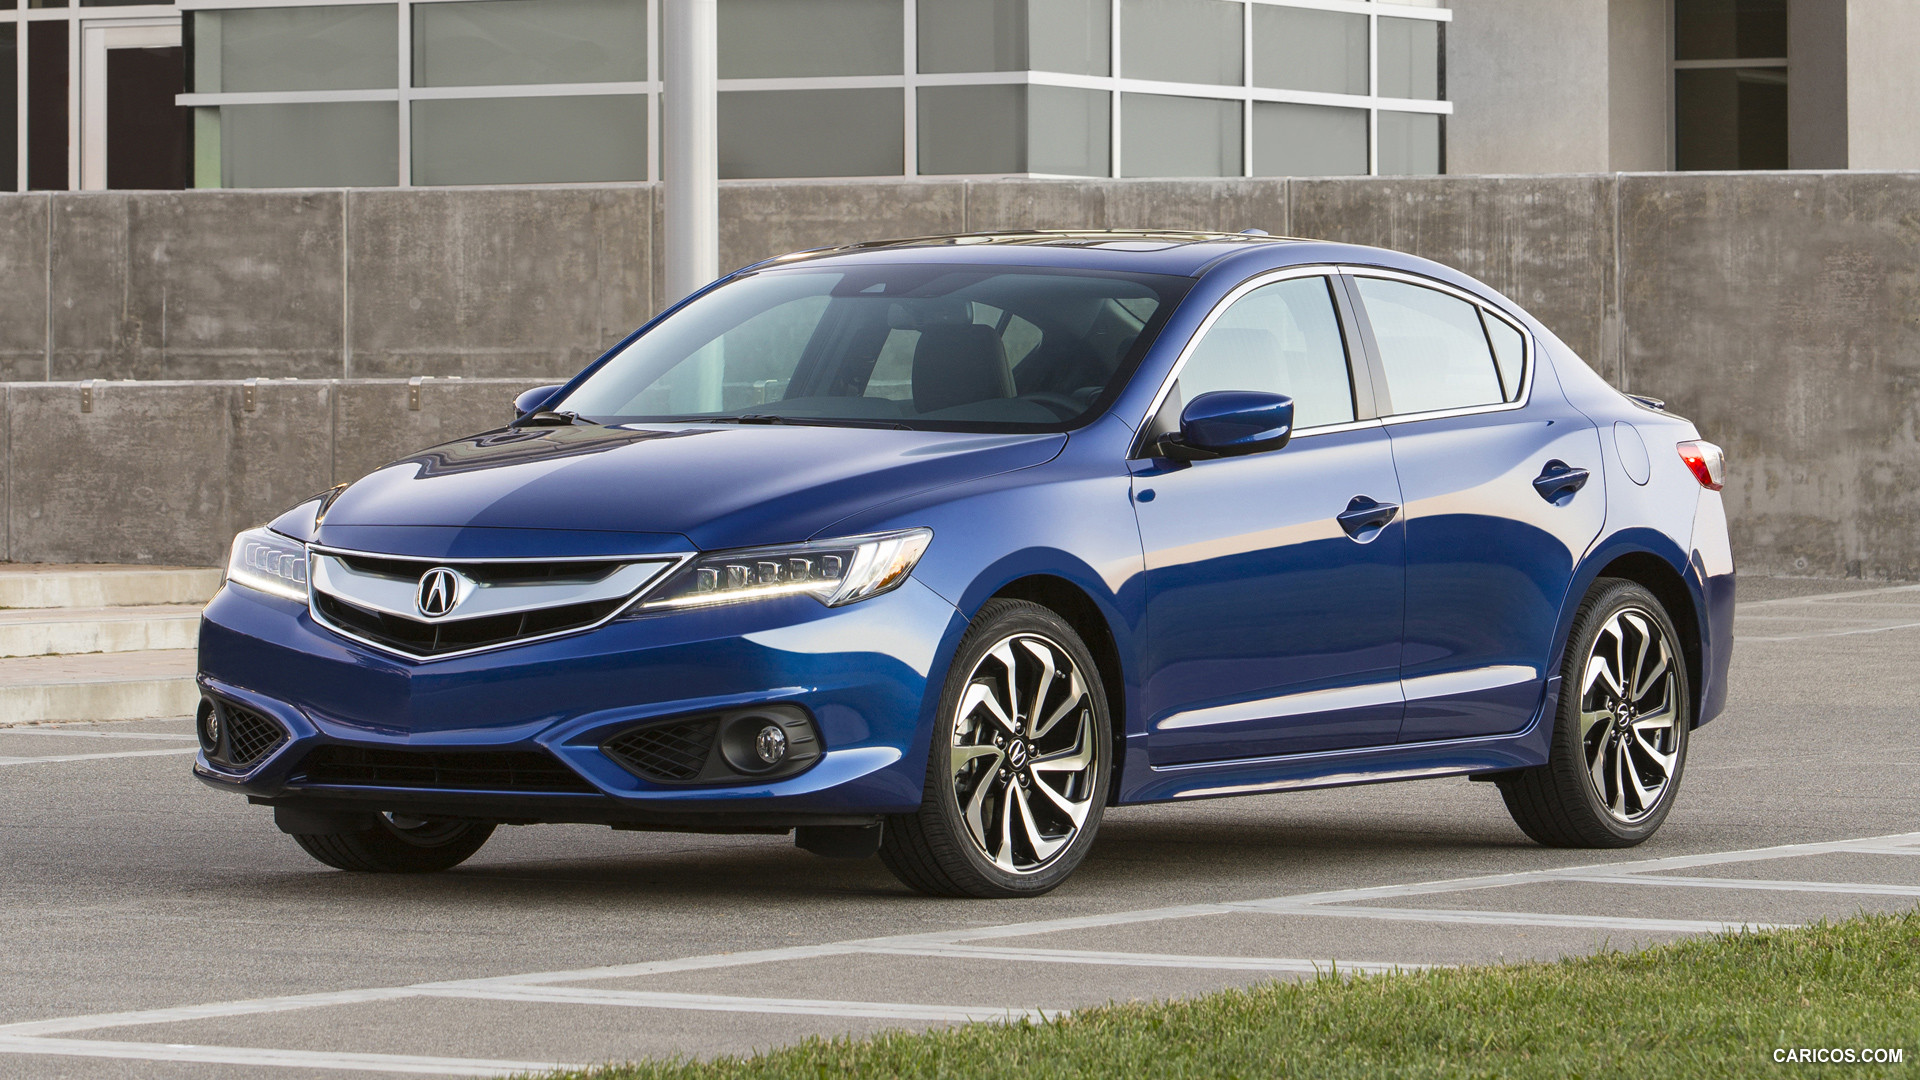Fog Lamp & Scope: (603, 705, 825, 791)
Front: (193, 438, 1044, 800)
Front Bumper: (175, 666, 934, 807)
Grill: (301, 556, 646, 666)
Headlight: (624, 527, 932, 618)
